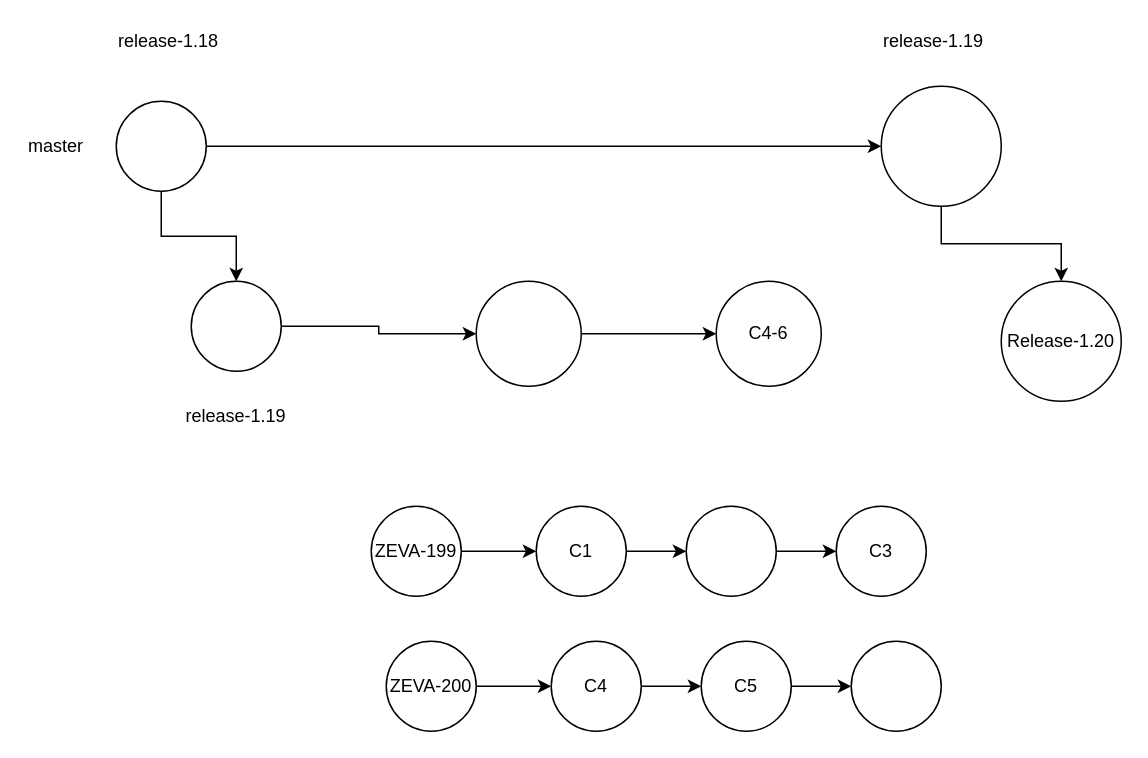
This 1148x758 diagram has some shape labels left out. The shapes that lost their labels are listed below. From the top down, each one's centre as x and y in pixels, then its label:
At (940,145): "C1-6".
At (528,333): "C1-3".
At (730,550): "C2".
At (895,685): "C6".
